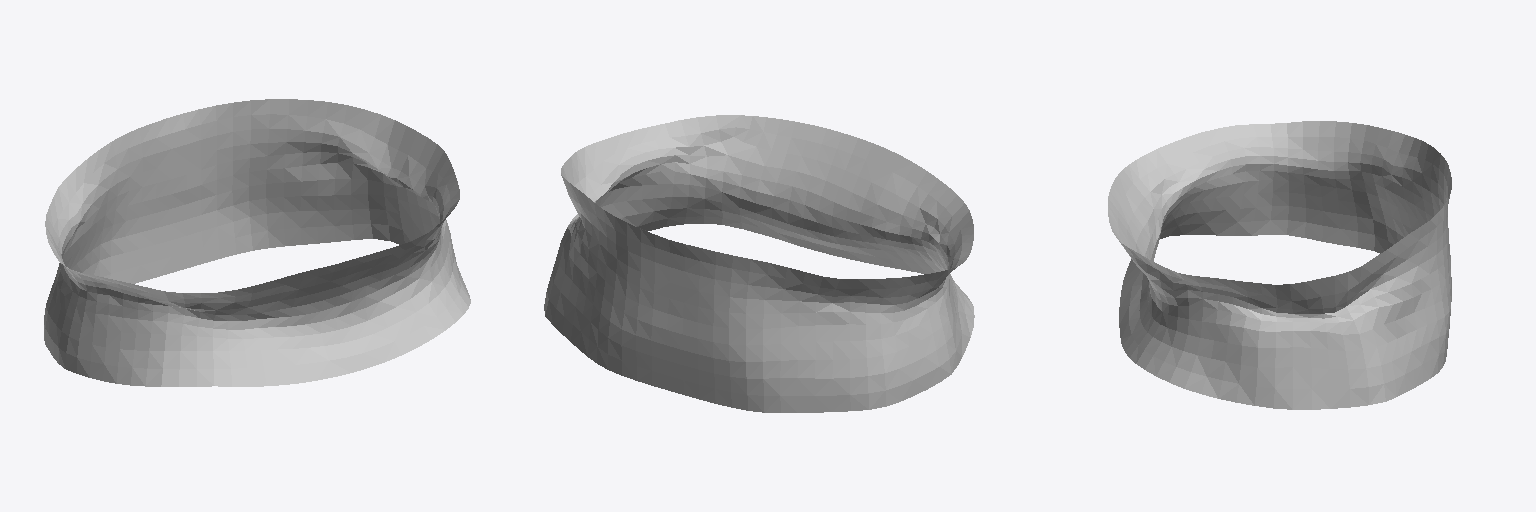
Rendered from FajaLow.OBJ.
3 renders of one model, left to right at view 1: azimuth 30°, elevation 25°; view 2: azimuth 150°, elevation 25°; view 3: azimuth 270°, elevation 25°, orthographic.
Visible parts, largest first — view 1: Group9695; view 2: Group9695; view 3: Group9695.
Part boxes in pixels (x1,y1,x2,y2): Group9695: (44,99,470,386); Group9695: (544,115,974,412); Group9695: (1108,121,1451,409).
Bounding box in the file's own units: 541 × 214 × 418.